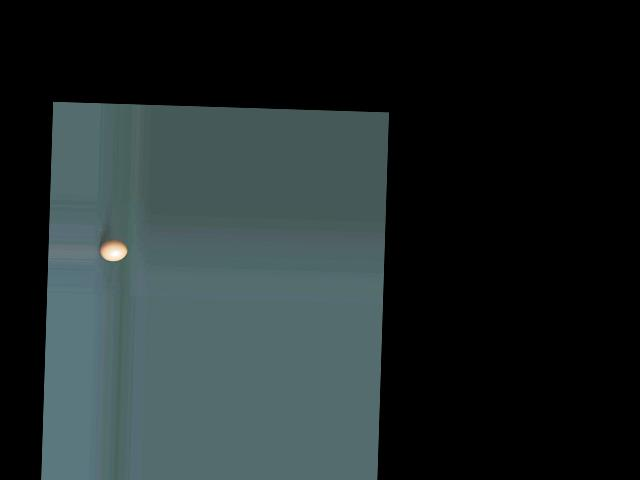egg: (99, 239, 127, 261)
